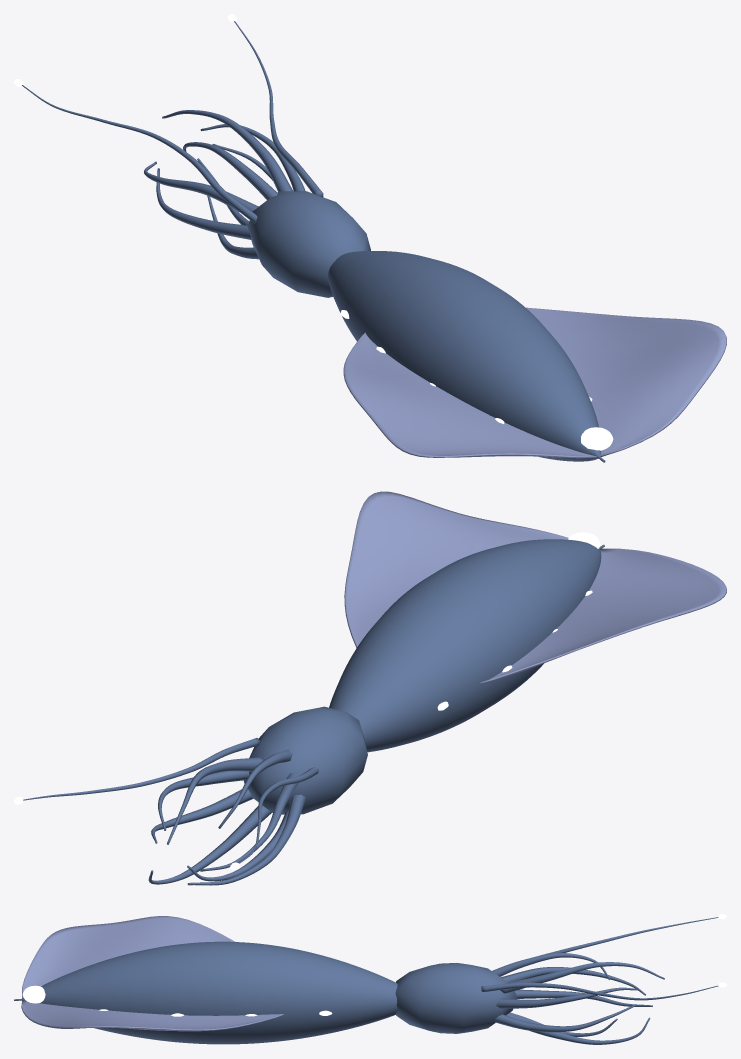
3 renders of one model, top to bottom at view 1: azimuth 30°, elevation 25°; view 2: azimuth 150°, elevation 25°; view 3: azimuth 270°, elevation 25°, orthographic. The views are drawn at different scales.
Visible parts, largest first — view 1: RIMWARD_HULL; view 2: RIMWARD_HULL; view 3: RIMWARD_HULL, RIMWARD_ENGINE_GLOW, RIMWARD_EMISSIVE.
Boxes of the visible parts, x1,y1,x2,y2 form: RIMWARD_HULL: [22, 21, 726, 462]; RIMWARD_HULL: [23, 491, 726, 885]; RIMWARD_HULL: [14, 916, 718, 1044]; RIMWARD_ENGINE_GLOW: [22, 985, 45, 1003]; RIMWARD_EMISSIVE: [99, 914, 726, 1016].
Size of the model in its own units: 2.92 by 1.05 by 7.2.
